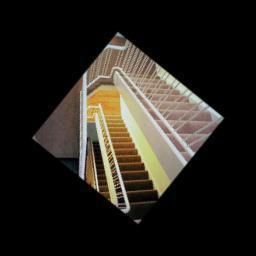Escaleras: (84, 45, 222, 177), (58, 103, 181, 221)
